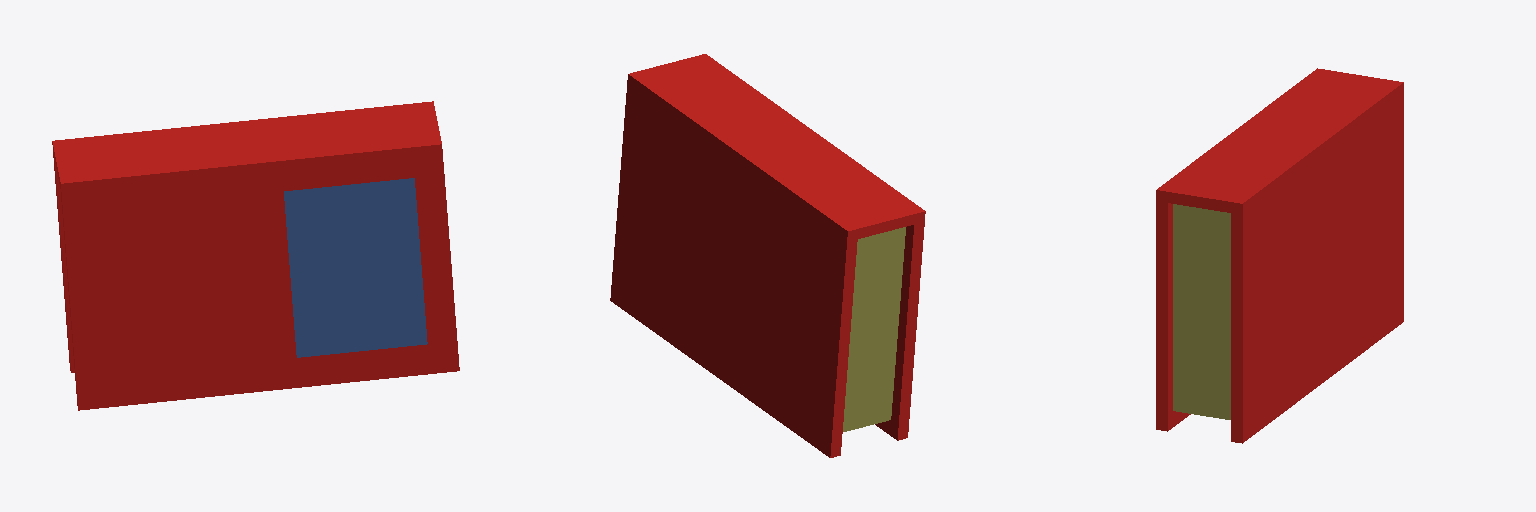
The model's file is book.obj.
The picture shows the model from 3 angles: view 1: azimuth 30°, elevation 25°; view 2: azimuth 150°, elevation 25°; view 3: azimuth 270°, elevation 25°; orthographic projection.
Bounding box in the file's own units: 1.59 × 1.12 × 0.9682.